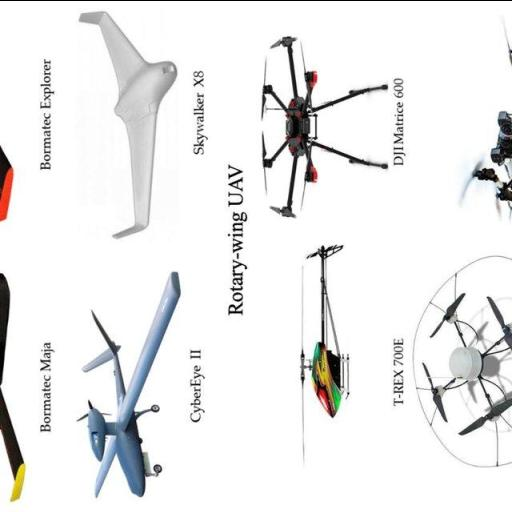uav: (74, 262, 188, 502)
